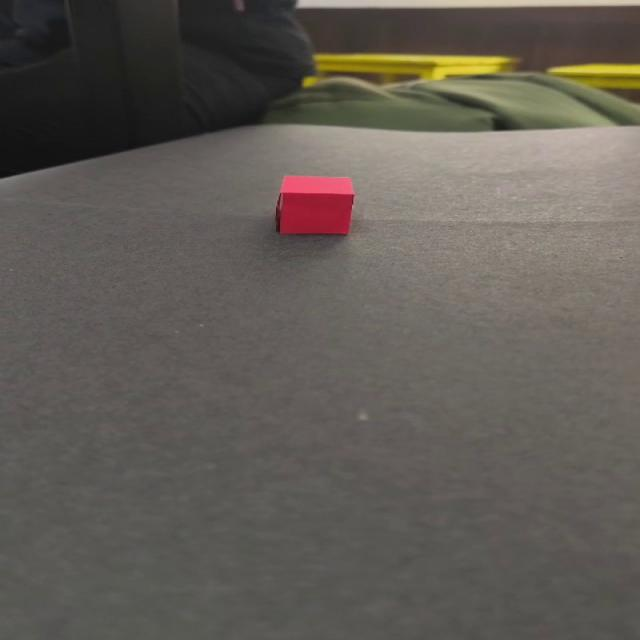red block: (273, 174, 355, 235)
